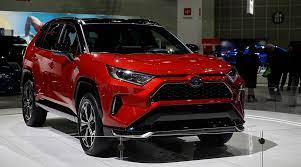Toyota: (21, 15, 247, 155)
